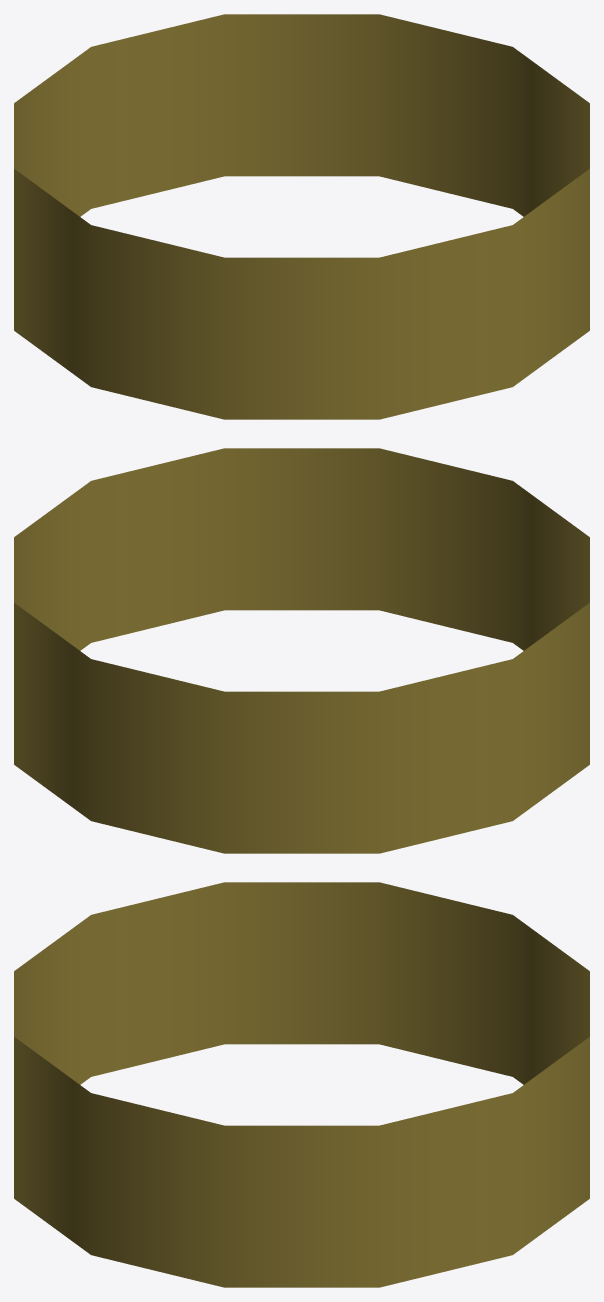
The model's file is original-21.obj.
The picture shows the model from 3 angles, top to bottom: view 1: azimuth 30°, elevation 25°; view 2: azimuth 150°, elevation 25°; view 3: azimuth 270°, elevation 25°; orthographic projection.
Visible parts, largest first — view 1: #ID91; view 2: #ID91; view 3: #ID91.
Part boxes in pixels (left/top/right/bottom): #ID91: left=14, top=14, right=589, bottom=419; #ID91: left=14, top=448, right=589, bottom=853; #ID91: left=14, top=882, right=589, bottom=1287.
Size of the model in its own units: 0.0394 by 0.0122 by 0.0394.
